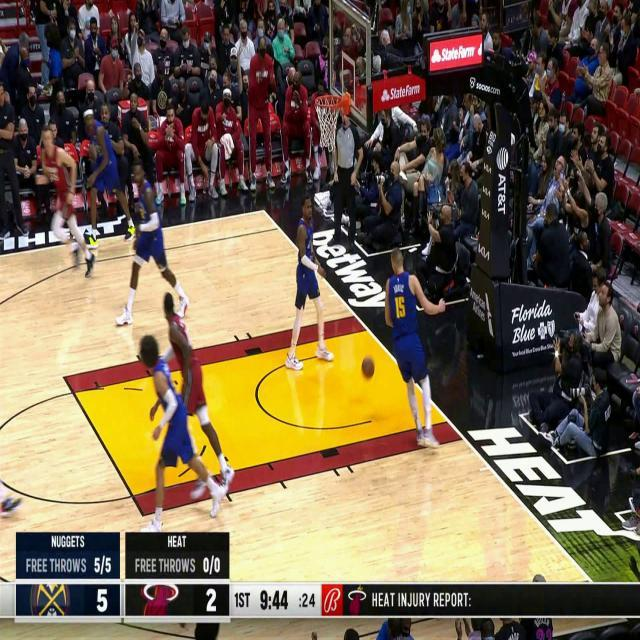rim: (362, 356, 374, 378)
